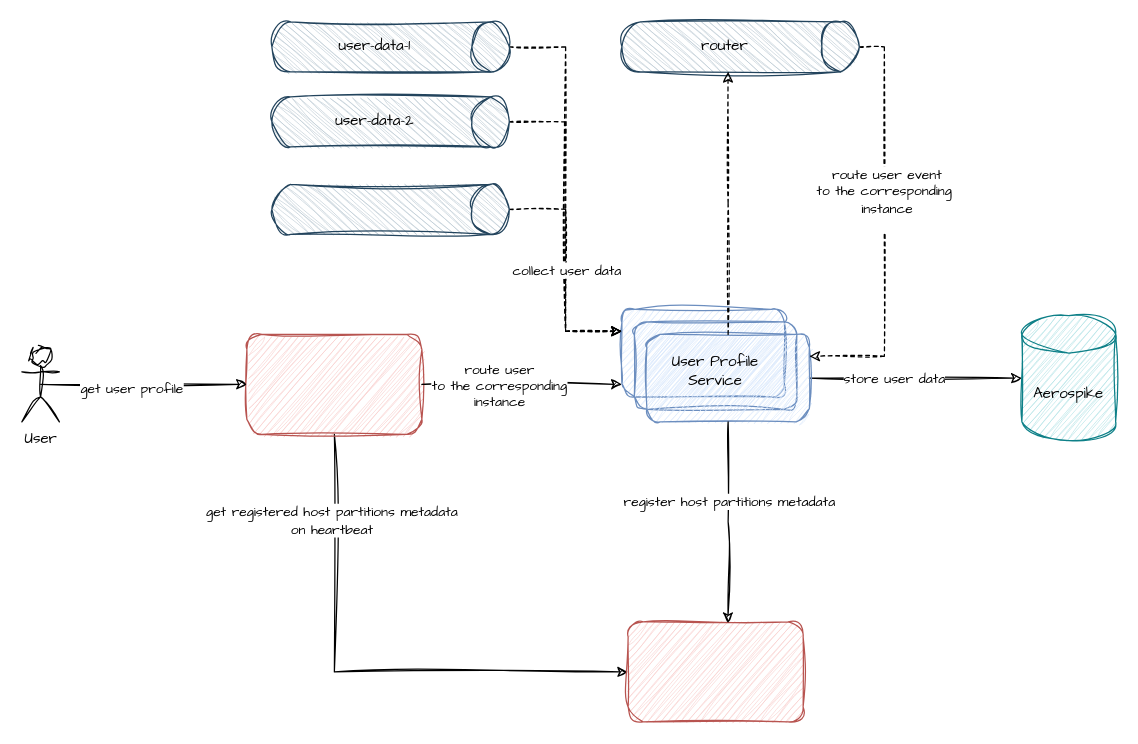
This 1138x744 diagram has some shape labels left out. Each missing label, with the box of its shape:
Eureka: (627, 621, 803, 722)
Gateway: (246, 333, 422, 434)
user-data-3: (271, 183, 509, 234)
